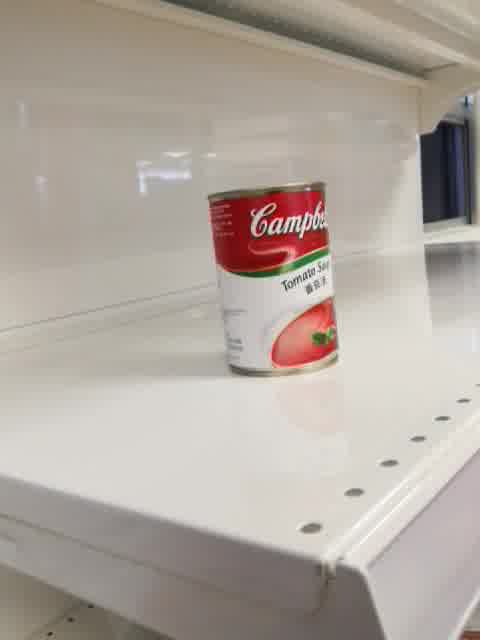tomatosoup: (205, 179, 343, 379)
